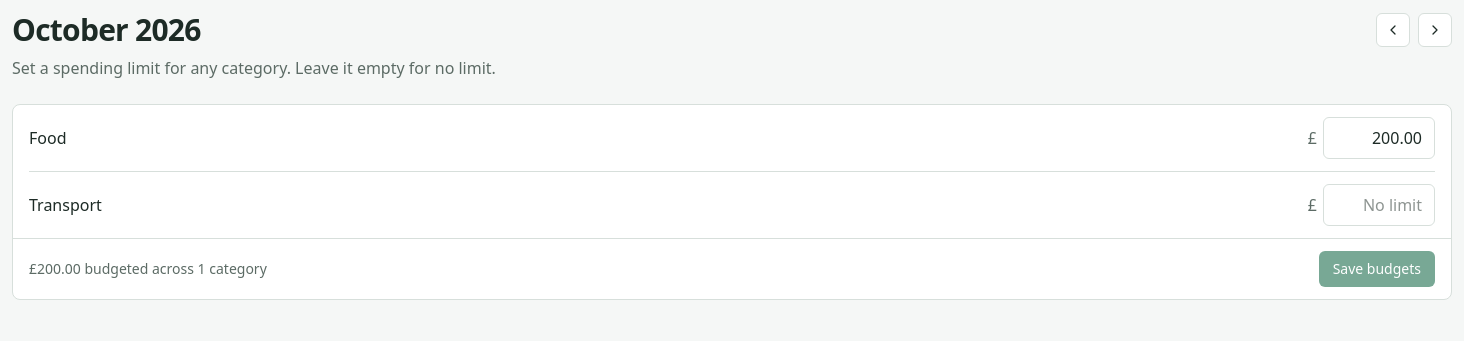
Test: BudgetsPage › checks amounts before saving
Type "12.345" into the field named "Transport budget (£)".
click(1379, 205); type("12.345")  # box [1323,184,1435,226]
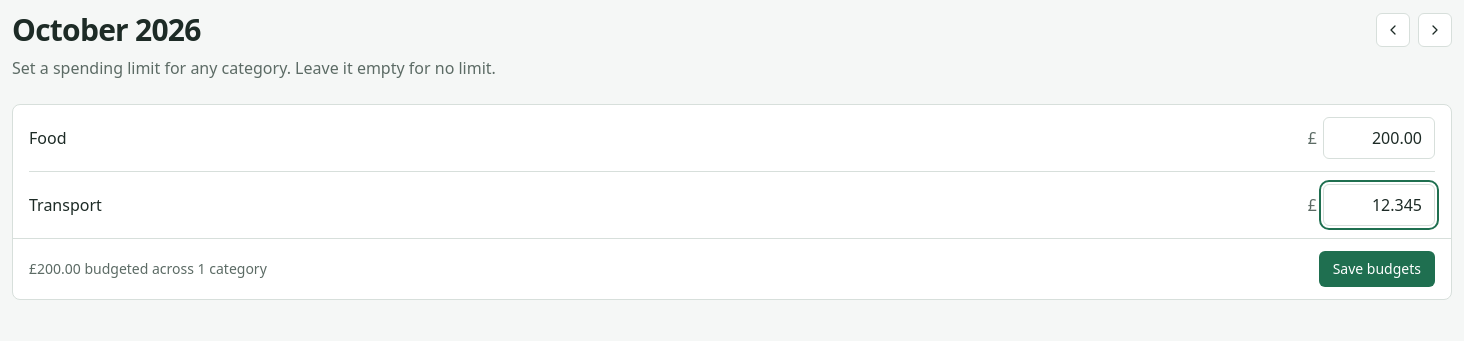
Click the button "Save budgets".
click(1377, 269)  # box [1319,251,1435,287]
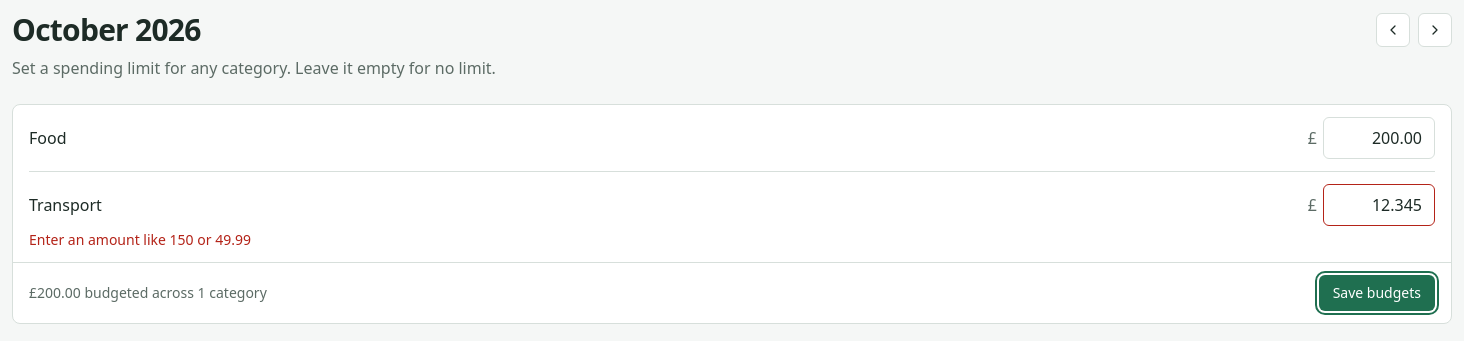
Expected: the text "Enter an amount like 150 or 49.99" is shown, [29,230,251,249]
